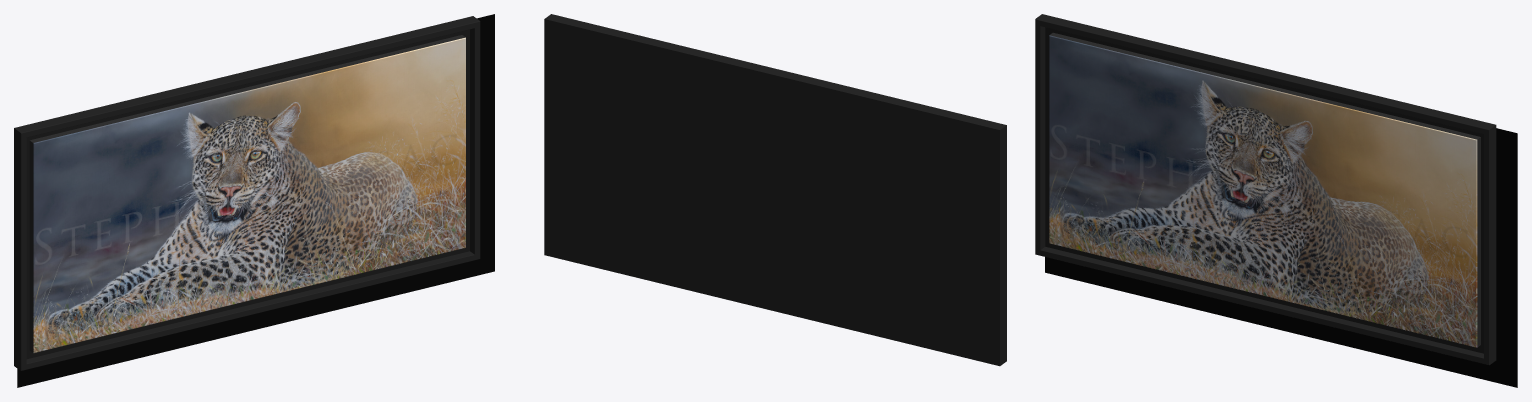
File: tableau-portrait-leopard-2-grand-2e5b34a7.glb
3 renders of one model, left to right at view 1: azimuth 30°, elevation 25°; view 2: azimuth 150°, elevation 25°; view 3: azimuth 330°, elevation 25°, orthographic.
Parts seen in each view (by area): view 1: Painting; view 2: Painting; view 3: Painting.
Boxes of the visible parts, x1,y1,x2,y2 form: Painting: (14,14,494,387); Painting: (544,14,1006,366); Painting: (1035,14,1517,387).
Size of the model in its own units: 1.56 by 0.806 by 0.04.
5 materials, 3 textured.
